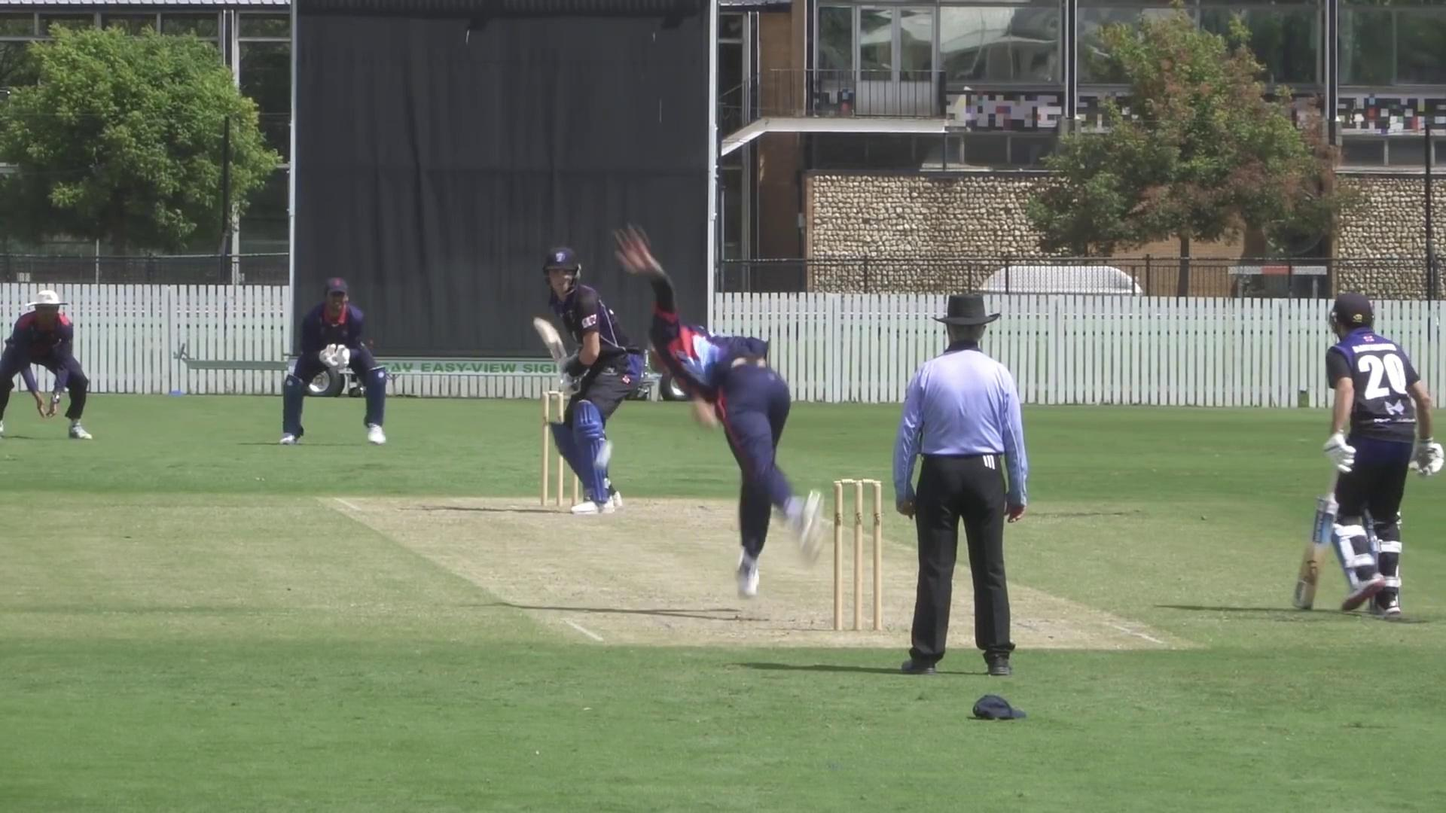ball: (593, 440, 617, 472)
